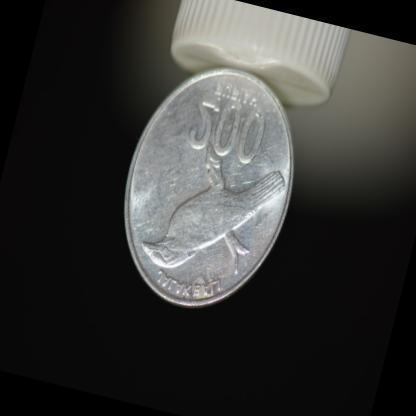coin_200_e2003: (116, 63, 299, 308)
